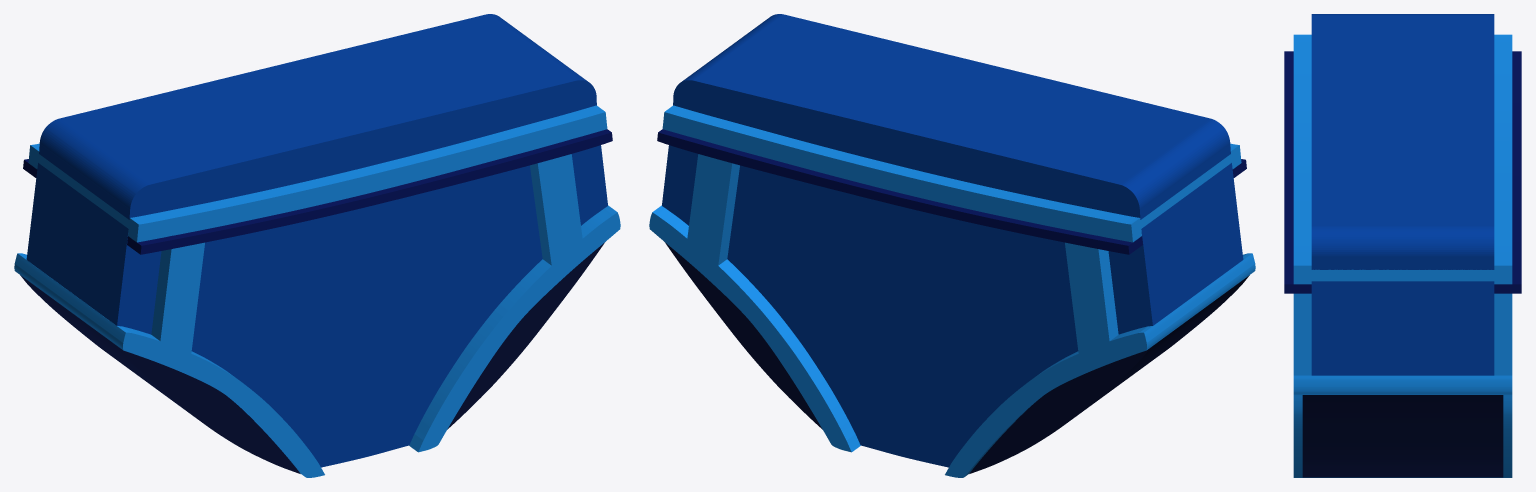
The picture shows the model from 3 angles, left to right: view 1: azimuth 30°, elevation 25°; view 2: azimuth 150°, elevation 25°; view 3: azimuth 270°, elevation 25°; orthographic projection.
Parts seen in each view (by area): view 1: U+1FA72_layer00_obj00, U+1FA72_layer02_obj00, U+1FA72_layer03_obj00, U+1FA72_layer01_obj00, U+1FA72_layer01_obj01; view 2: U+1FA72_layer00_obj00, U+1FA72_layer02_obj00, U+1FA72_layer03_obj00, U+1FA72_layer01_obj00, U+1FA72_layer01_obj01; view 3: U+1FA72_layer00_obj00, U+1FA72_layer02_obj00, U+1FA72_layer01_obj01, U+1FA72_layer03_obj00.
Boxes of the visible parts, x1,y1,x2,y2 form: U+1FA72_layer00_obj00: [26, 14, 607, 467]; U+1FA72_layer02_obj00: [14, 105, 620, 477]; U+1FA72_layer03_obj00: [23, 129, 612, 254]; U+1FA72_layer01_obj00: [20, 275, 300, 473]; U+1FA72_layer01_obj01: [447, 242, 604, 429]; U+1FA72_layer00_obj00: [662, 14, 1243, 467]; U+1FA72_layer02_obj00: [649, 105, 1255, 477]; U+1FA72_layer03_obj00: [657, 129, 1246, 254]; U+1FA72_layer01_obj00: [969, 275, 1249, 473]; U+1FA72_layer01_obj01: [665, 242, 822, 429]; U+1FA72_layer00_obj00: [1311, 14, 1494, 375]; U+1FA72_layer02_obj00: [1293, 34, 1512, 477]; U+1FA72_layer01_obj01: [1302, 395, 1503, 477]; U+1FA72_layer03_obj00: [1284, 51, 1521, 293].
Size of the model in its own units: 0.3176 by 0.1984 by 0.13.
